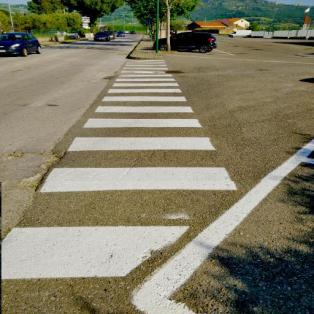Paso de Cebra: (0, 165, 238, 284), (61, 116, 226, 155), (101, 88, 191, 104), (117, 70, 176, 80), (123, 59, 167, 64)
